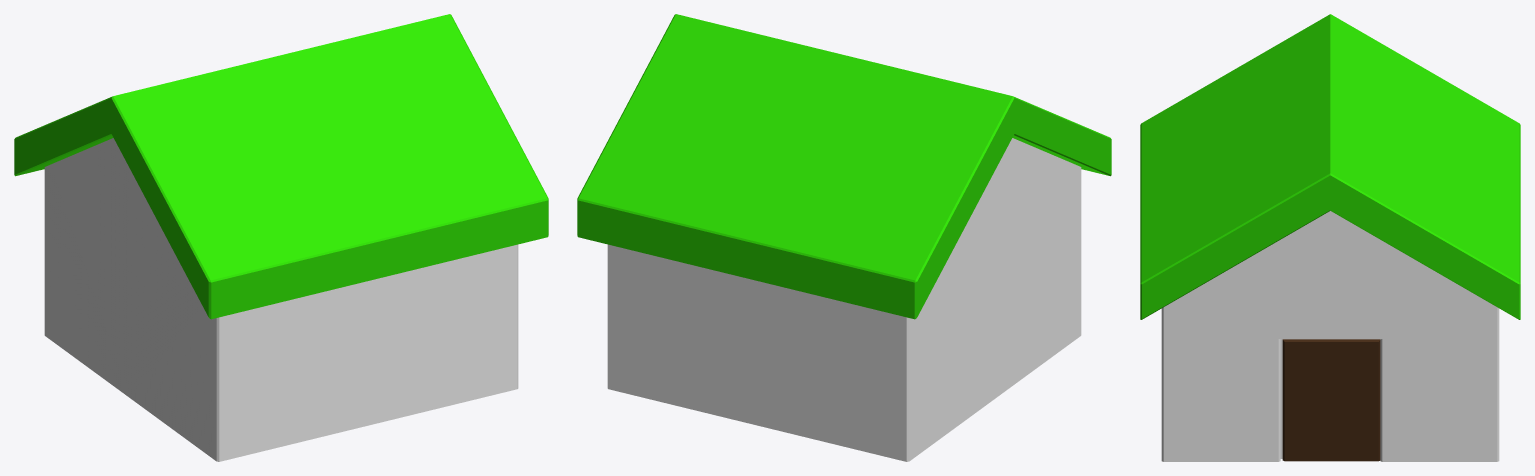
Rendered from farm_house.glb.
3 renders of one model, left to right at view 1: azimuth 30°, elevation 25°; view 2: azimuth 150°, elevation 25°; view 3: azimuth 270°, elevation 25°, orthographic. The views are drawn at different scales.
Visible parts, largest first — view 1: FarmHouseRoof, FamrHouseWall; view 2: FarmHouseRoof, FamrHouseWall; view 3: FarmHouseRoof, FamrHouseWall, FarmHouseDoor.
Part boxes in pixels (x1,y1,x2,y2): FarmHouseRoof: [14, 14, 548, 319]; FamrHouseWall: [44, 138, 518, 461]; FarmHouseRoof: [577, 14, 1111, 319]; FamrHouseWall: [607, 138, 1081, 461]; FarmHouseRoof: [1140, 14, 1520, 319]; FamrHouseWall: [1161, 211, 1499, 461]; FarmHouseDoor: [1282, 339, 1380, 461].
Bounding box in the file's own units: 0.4775 × 0.4116 × 0.4775.
